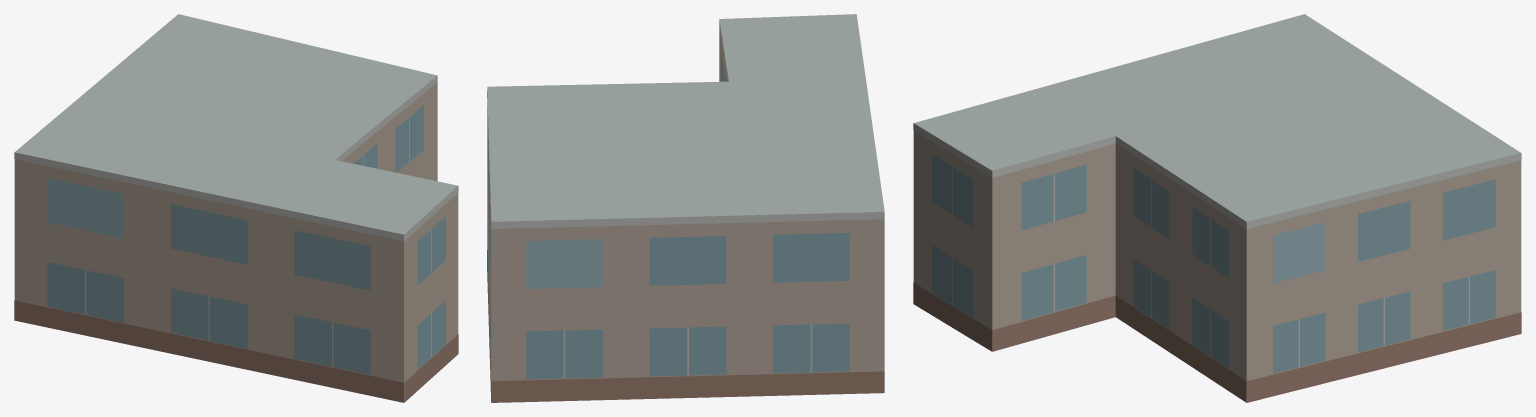
Rendered from survey-upis-32986557.glb.
3 views of the same model, side by side, from view 1: azimuth 30°, elevation 25°; view 2: azimuth 150°, elevation 25°; view 3: azimuth 270°, elevation 25° (orthographic). The views are drawn at different scales.
Parts seen in each view (by area): view 1: survey-upis-32986557.tmp; view 2: survey-upis-32986557.tmp; view 3: survey-upis-32986557.tmp.
Boxes of the visible parts, box(x1,y1,x2,y2) form: survey-upis-32986557.tmp: box(14, 14, 458, 402); survey-upis-32986557.tmp: box(487, 14, 884, 402); survey-upis-32986557.tmp: box(913, 14, 1521, 402).
Bounding box in the file's own units: 15.04 × 6.1 × 18.58.
